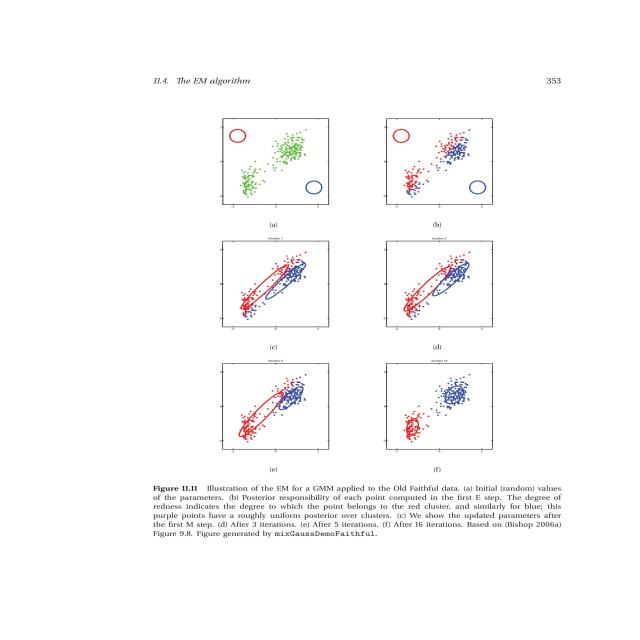diagram: (114, 67, 586, 553)
